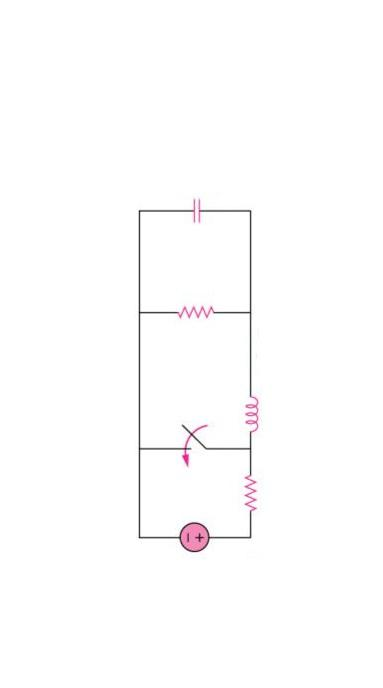resistor: (166, 283, 237, 352)
